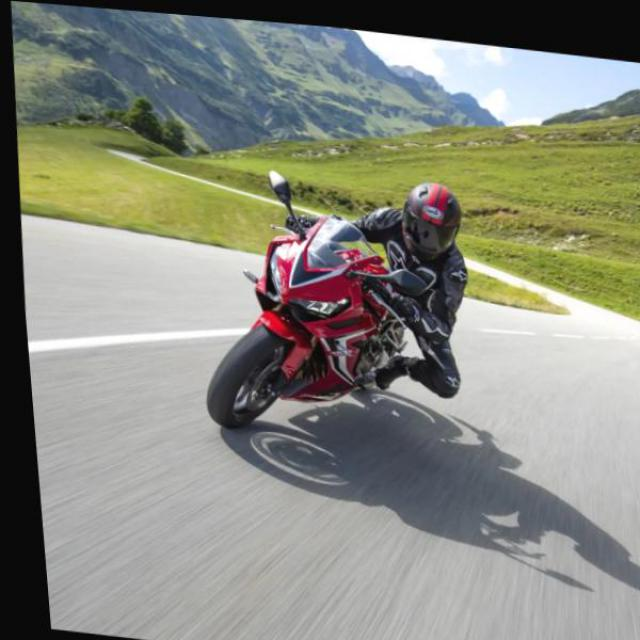CBR650R: (181, 195, 430, 448)
